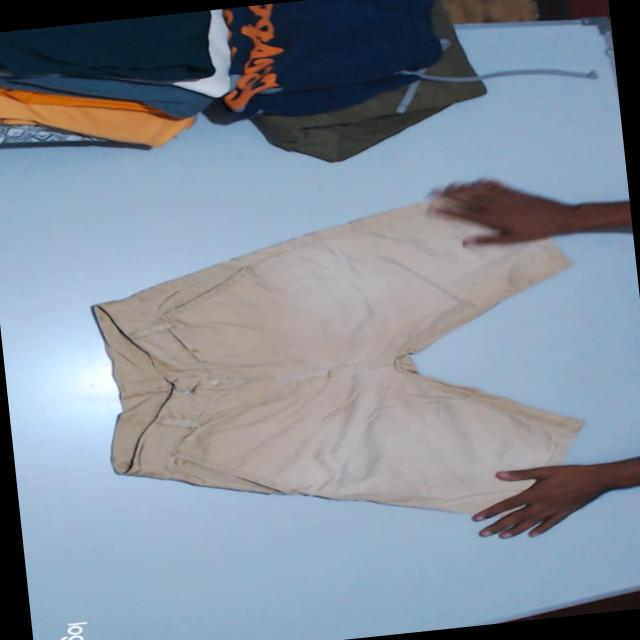new-garment: (93, 204, 582, 514)
